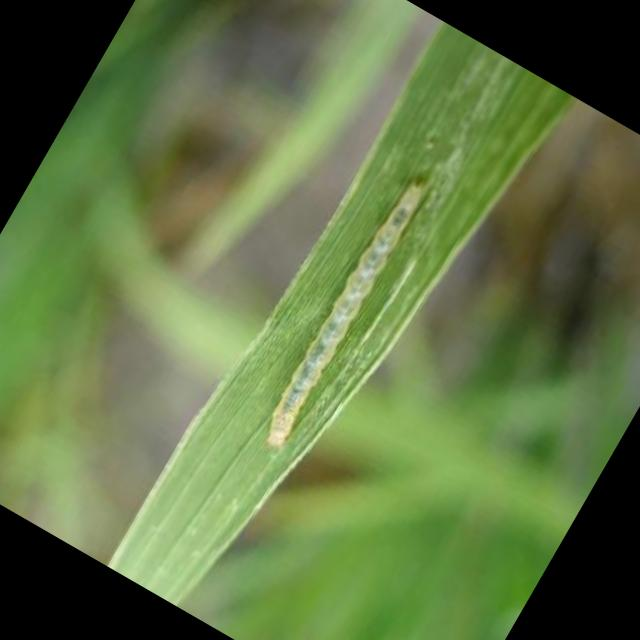leaf-folder: (214, 110, 474, 487)
